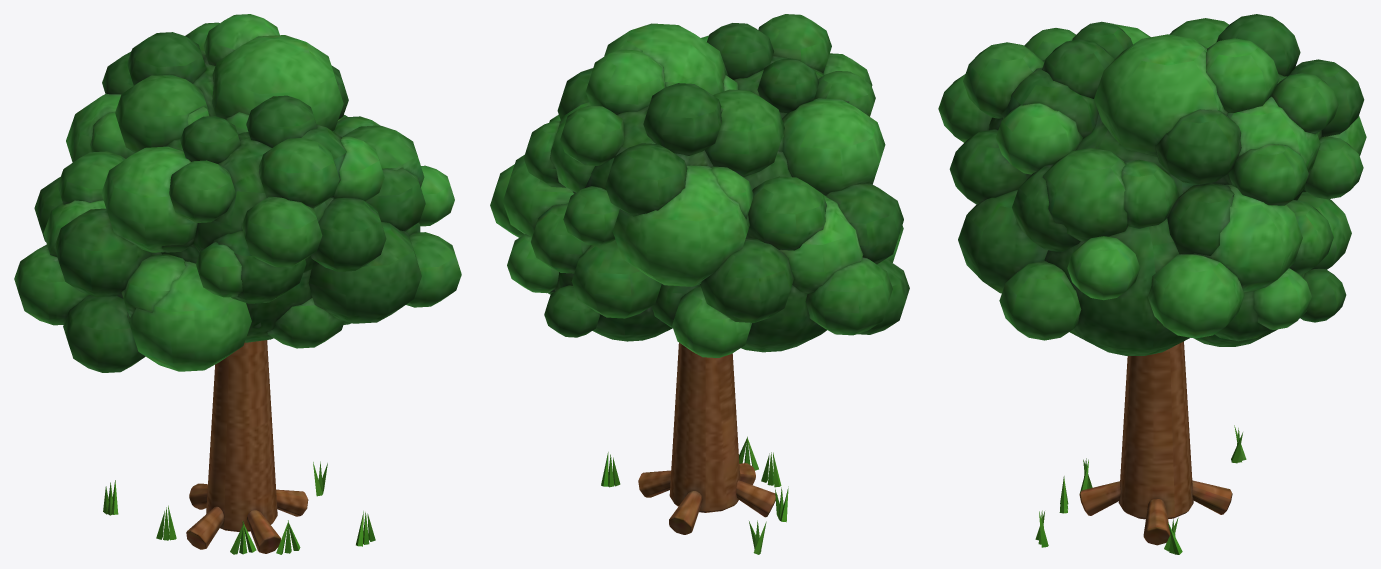
Rendered from black_cherry_tree.glb.
3 renders of one model, left to right at view 1: azimuth 30°, elevation 25°; view 2: azimuth 150°, elevation 25°; view 3: azimuth 270°, elevation 25°, orthographic. The views are drawn at different scales.
Visible parts, largest first — view 1: crown, black_cherry_tree; view 2: crown, black_cherry_tree; view 3: crown, black_cherry_tree.
Boxes of the visible parts, x1,y1,x2,y2 form: crown: (14, 14, 461, 372); black_cherry_tree: (103, 340, 375, 554); crown: (490, 14, 909, 357); black_cherry_tree: (601, 342, 788, 554); crown: (938, 14, 1366, 355); black_cherry_tree: (1035, 341, 1246, 554).
Size of the model in its own units: 1.14 by 1.31 by 1.02.
1 material, 1 textured.
